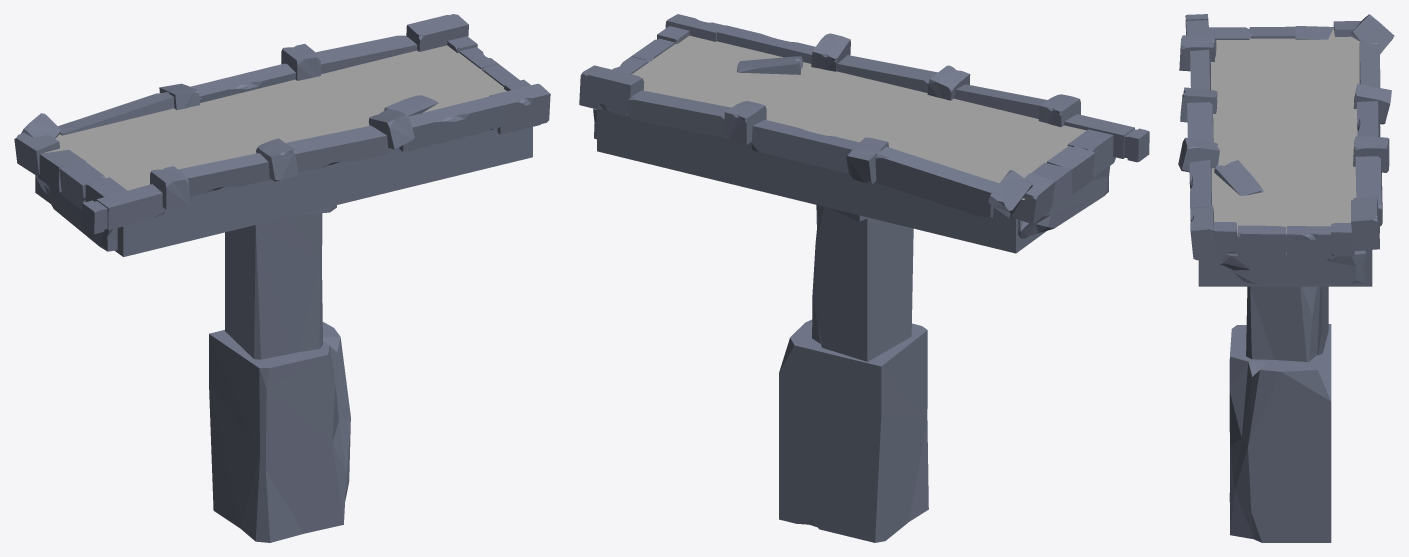
File: SM_Pillar_Plateform_B.fbx
3 renders of one model, left to right at view 1: azimuth 30°, elevation 25°; view 2: azimuth 150°, elevation 25°; view 3: azimuth 270°, elevation 25°, orthographic. The views are drawn at different scales.
Parts seen in each view (by area): view 1: SM_Pillar_Plateform_B; view 2: SM_Pillar_Plateform_B; view 3: SM_Pillar_Plateform_B.
Part boxes in pixels (x1=…): SM_Pillar_Plateform_B: x1=14, y1=14, x2=550, y2=542; SM_Pillar_Plateform_B: x1=579, y1=14, x2=1149, y2=542; SM_Pillar_Plateform_B: x1=1178, y1=14, x2=1394, y2=542.
Size of what is drawn, in the model's own units: 840 by 726 by 348.
